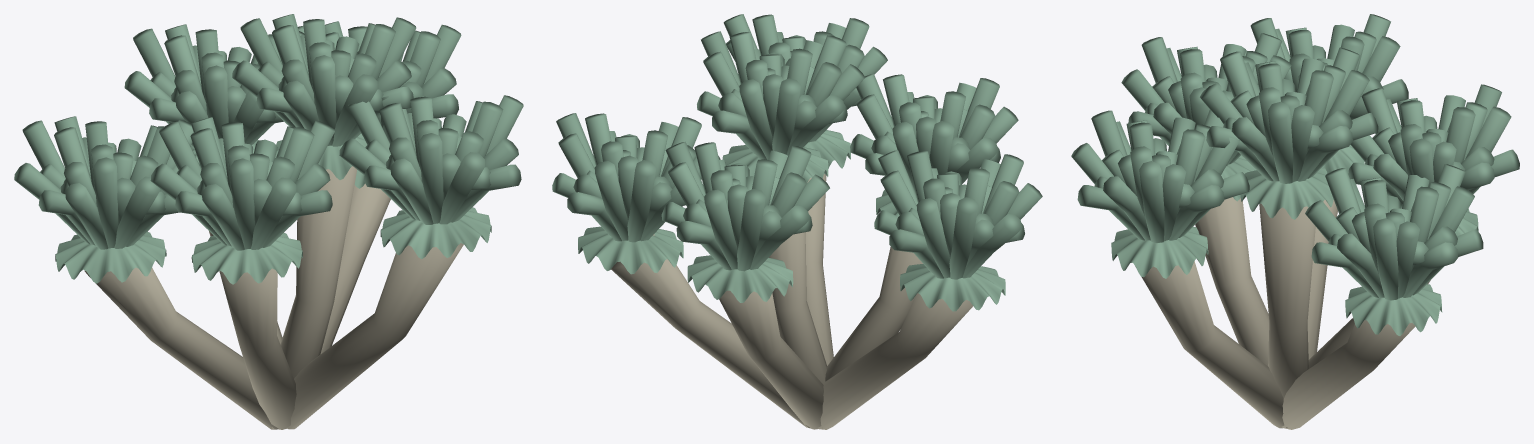
Rendered from candy-desktop.glb.
The picture shows the model from 3 angles, left to right: view 1: azimuth 30°, elevation 25°; view 2: azimuth 150°, elevation 25°; view 3: azimuth 270°, elevation 25°; orthographic projection. The views are drawn at different scales.
Visible parts, largest first — view 1: fleshy-tentacle, branching-corallum; view 2: fleshy-tentacle, branching-corallum; view 3: fleshy-tentacle, branching-corallum.
Boxes of the visible parts, x1,y1,x2,y2 form: fleshy-tentacle: (14, 14, 523, 284); branching-corallum: (84, 166, 463, 429); fleshy-tentacle: (552, 14, 1042, 311); branching-corallum: (611, 174, 972, 429); fleshy-tentacle: (1071, 14, 1519, 335); branching-corallum: (1135, 197, 1430, 429).
Bounding box in the file's own units: 0.6071 × 0.4806 × 0.5174.
